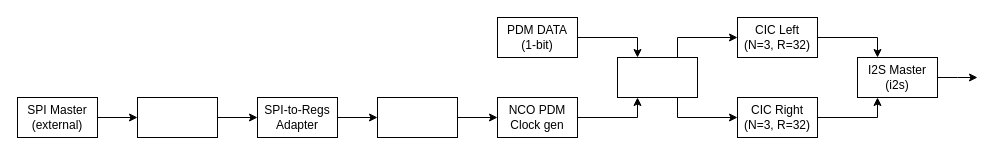
Some shapes in this 1003 by 155 pixel diagram are drawn without their labels. Here are the shapes that lost their labels. From the top down, the box of each, then its label:
(616, 56, 698, 98): PDM Sampler (pdm_sampler)
(136, 96, 218, 138): SPI Slave (spi)
(376, 96, 458, 138): Register file (regs)
